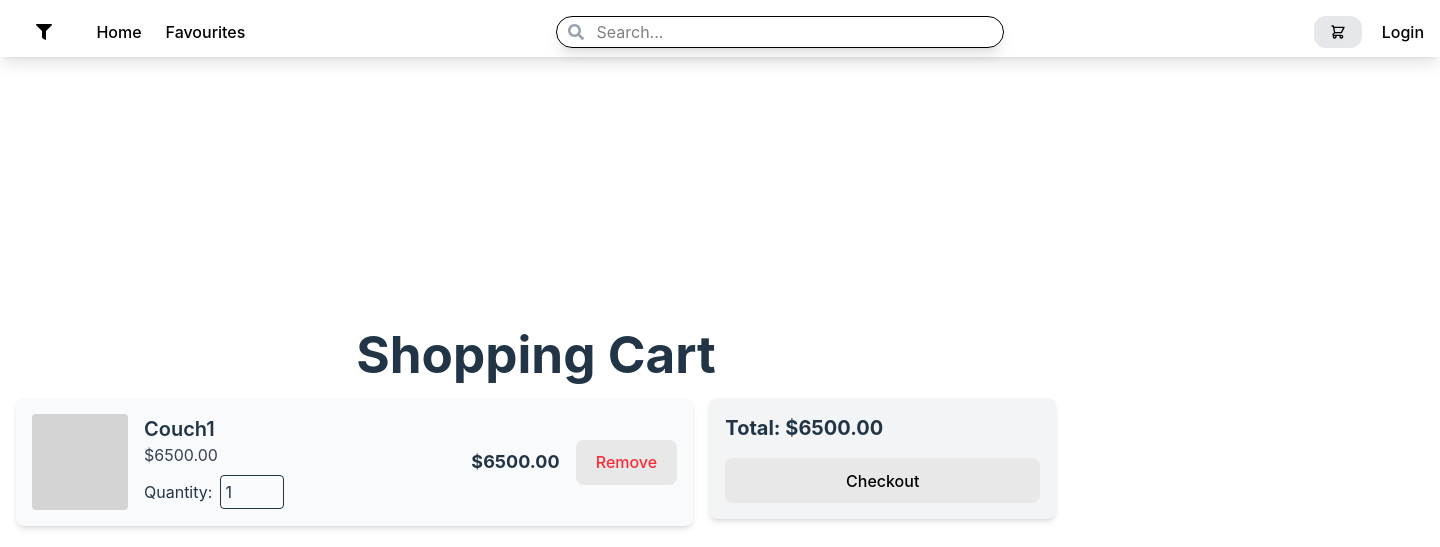
Test case: CartPage › updates quantity & Price
Replace the text in the number field showing "1" with "2": (252, 492) [220, 475, 284, 509]
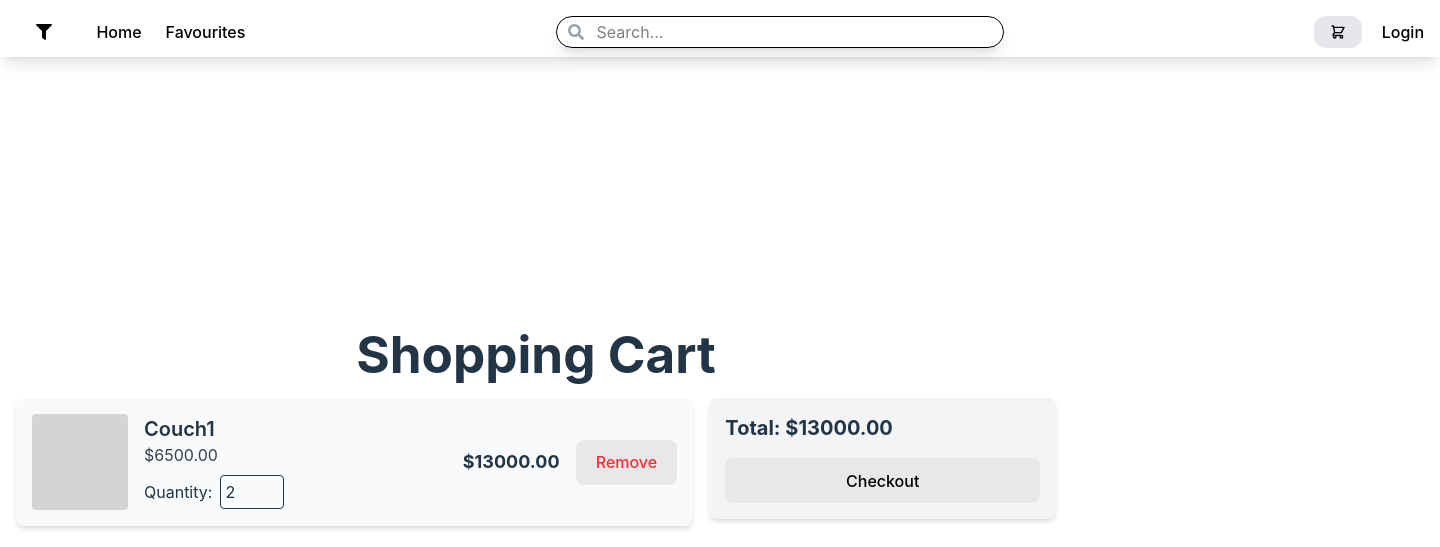
expect the text "$13000.00" is shown: met, box [463, 448, 560, 476]
